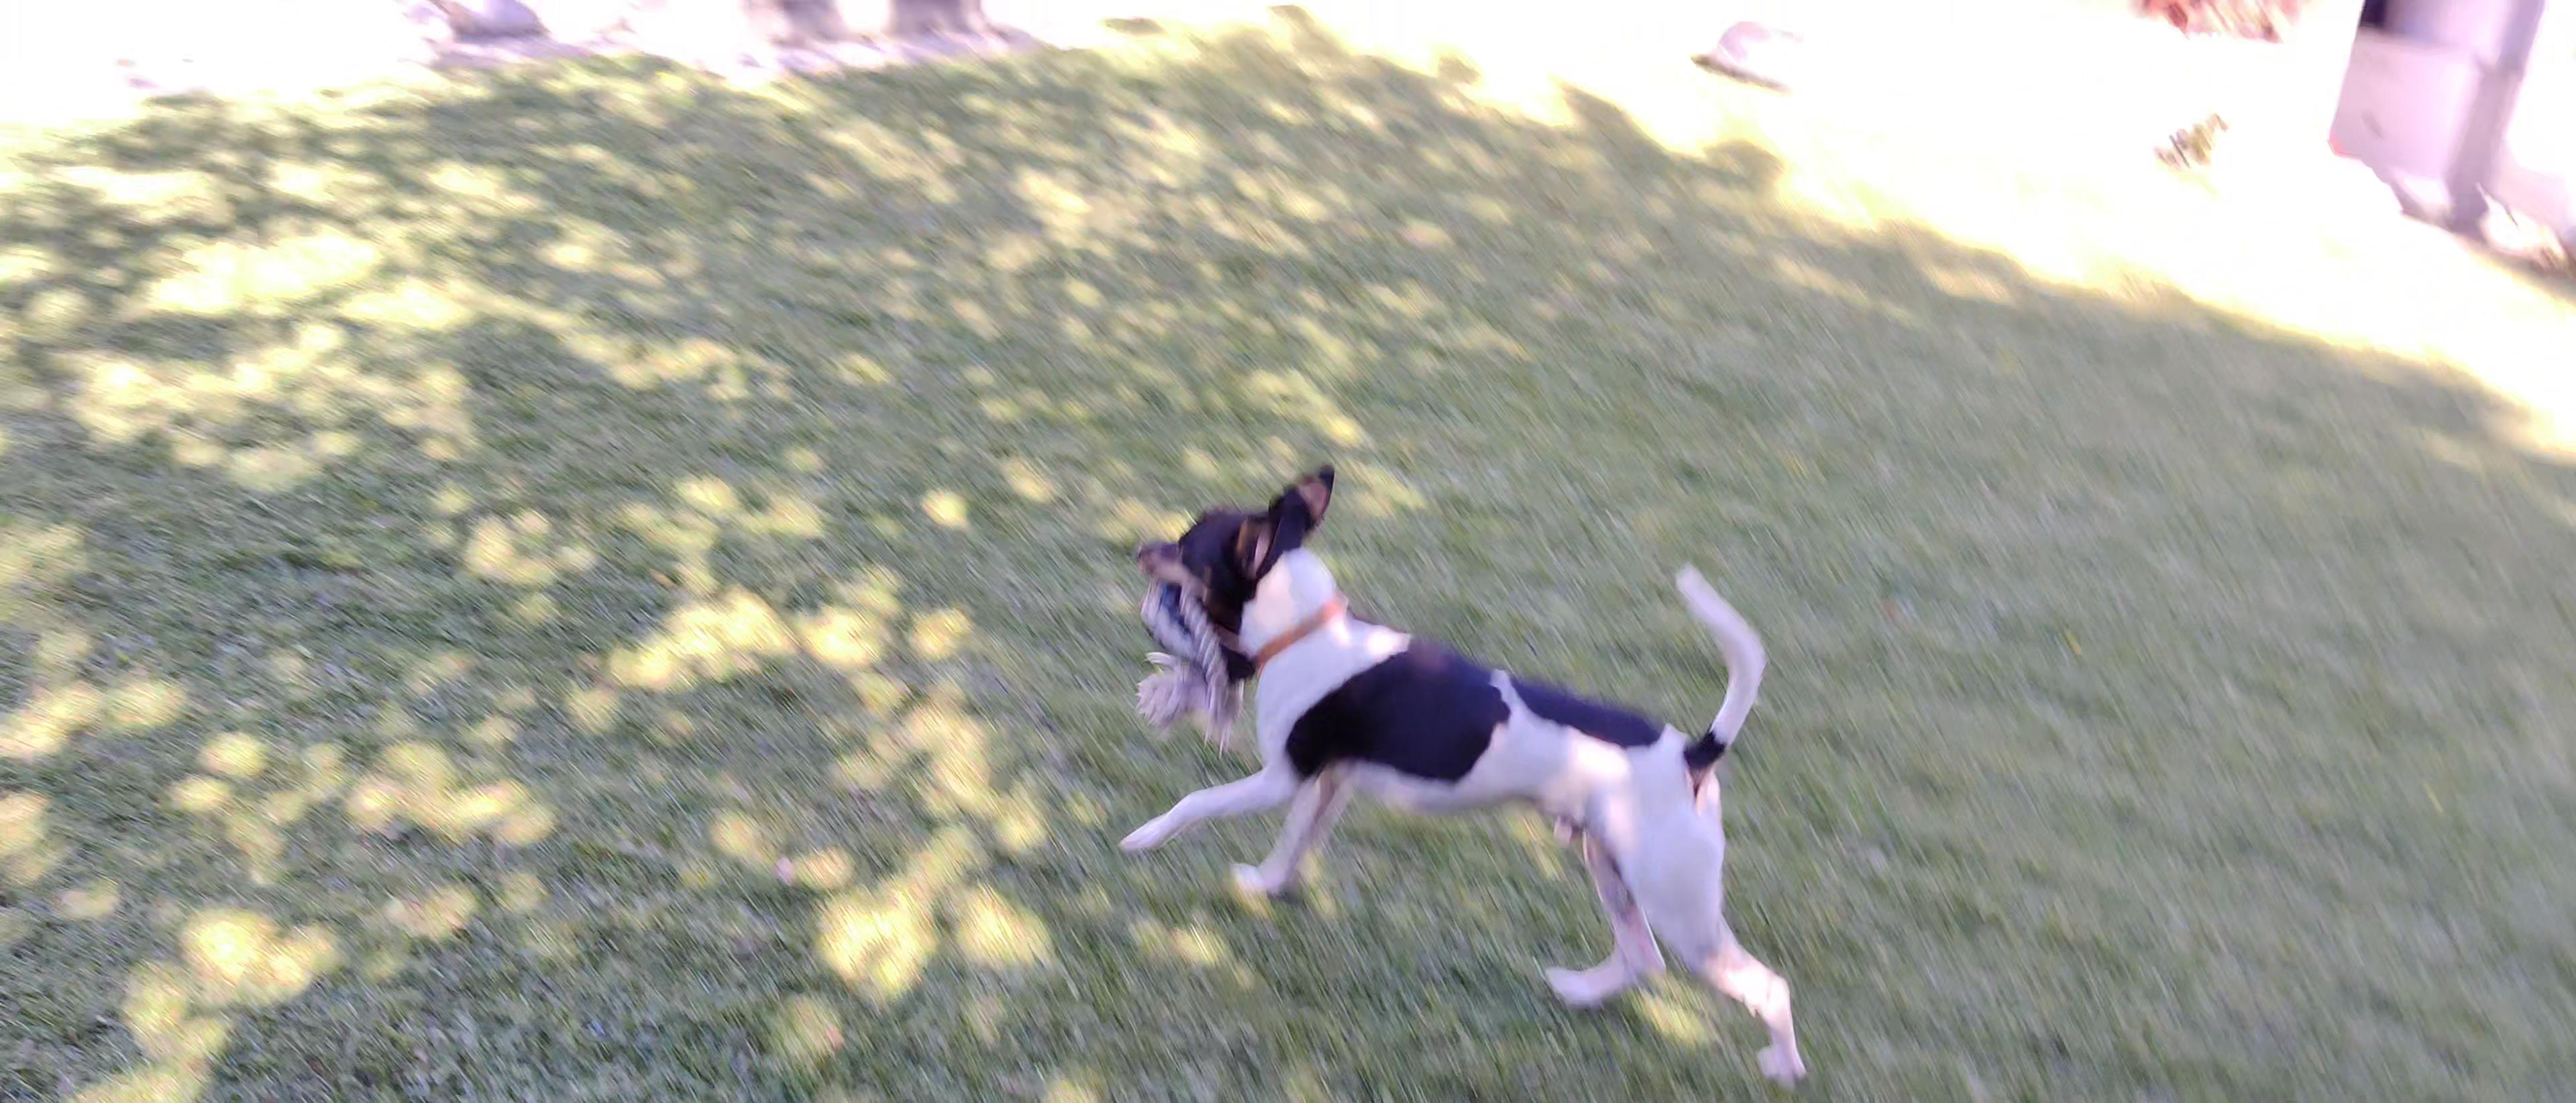Dog: (1094, 449, 1827, 1088)
